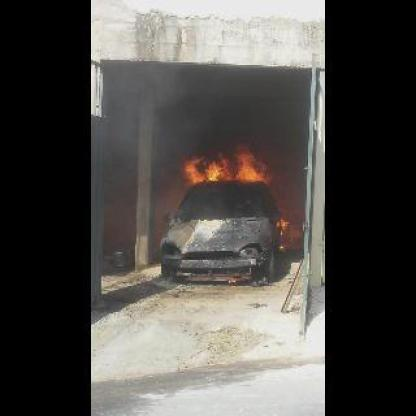fire: (178, 138, 274, 188)
